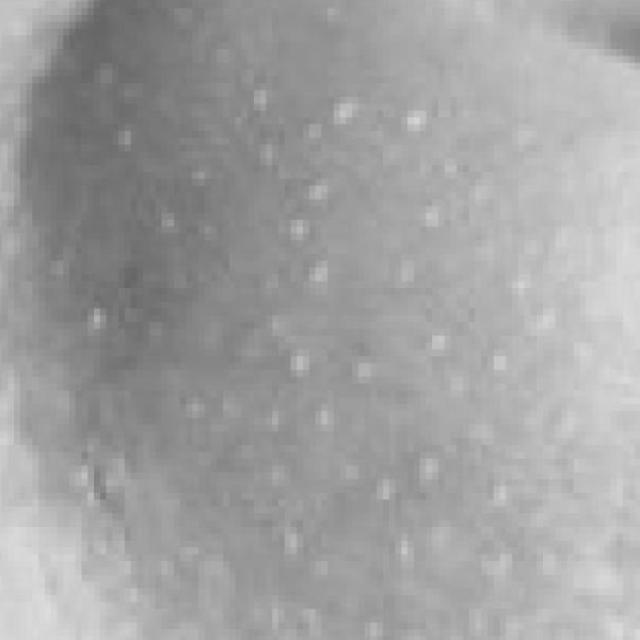whitehead: (4, 0, 640, 640)
